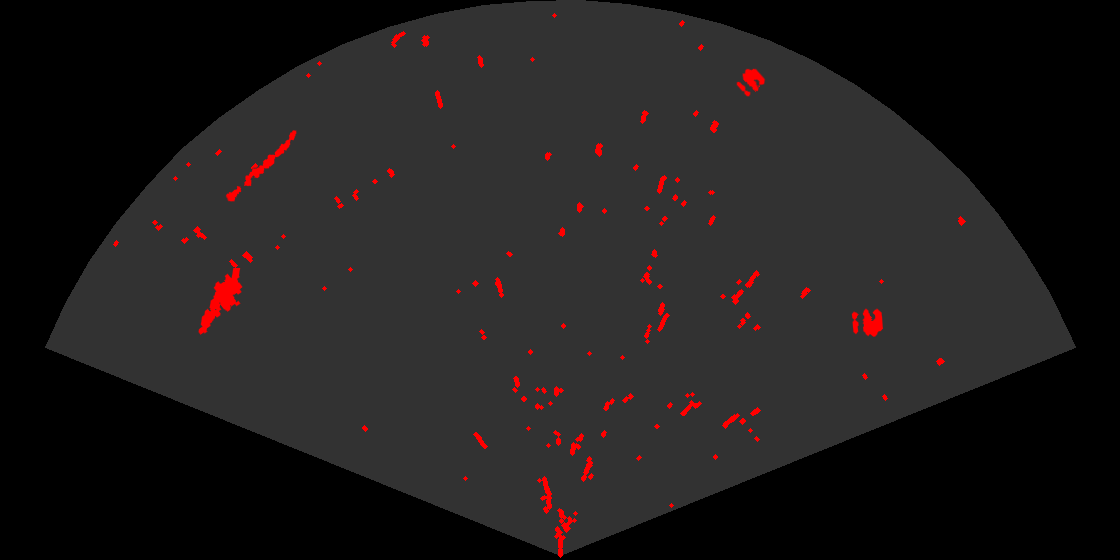ball: (850, 307, 885, 338), (735, 67, 767, 98)
chain: (224, 129, 298, 203)
frogman: (197, 268, 244, 336)
